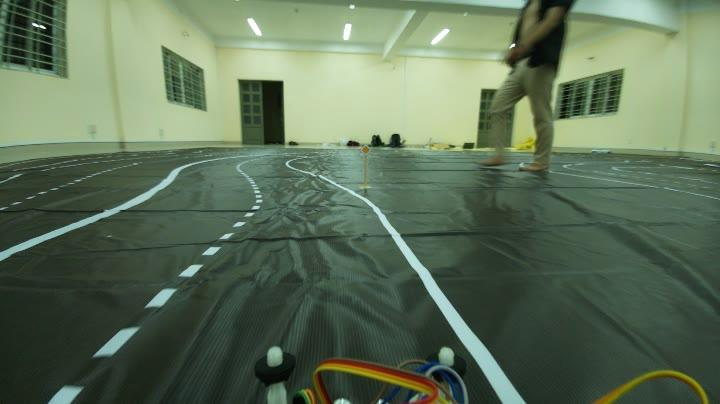priority: (360, 142, 374, 156)
